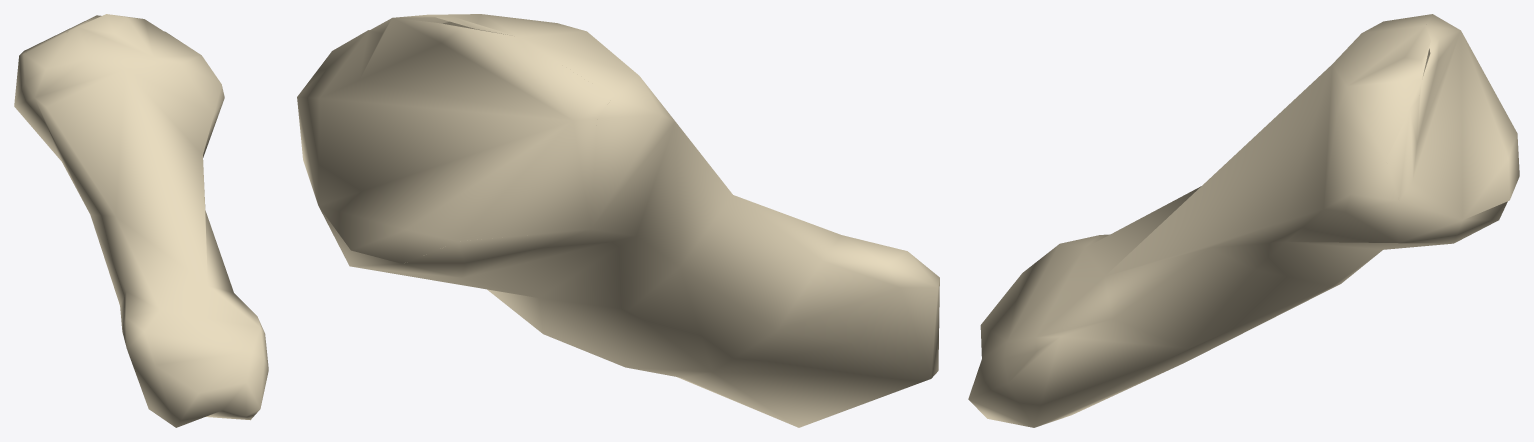
The model's file is esqueleto-distal-phalanx-of-second-finger-of-hand-r.glb.
3 renders of one model, left to right at view 1: azimuth 30°, elevation 25°; view 2: azimuth 150°, elevation 25°; view 3: azimuth 270°, elevation 25°, orthographic. The views are drawn at different scales.
Parts seen in each view (by area): view 1: Distal phalanx of second finger of hand.r; view 2: Distal phalanx of second finger of hand.r; view 3: Distal phalanx of second finger of hand.r.
Part boxes in pixels (x1=…): Distal phalanx of second finger of hand.r: x1=14, y1=14, x2=268, y2=427; Distal phalanx of second finger of hand.r: x1=297, y1=14, x2=939, y2=427; Distal phalanx of second finger of hand.r: x1=968, y1=14, x2=1519, y2=427.
Size of the model in its own units: 0.0104 by 0.0143 by 0.0176.
